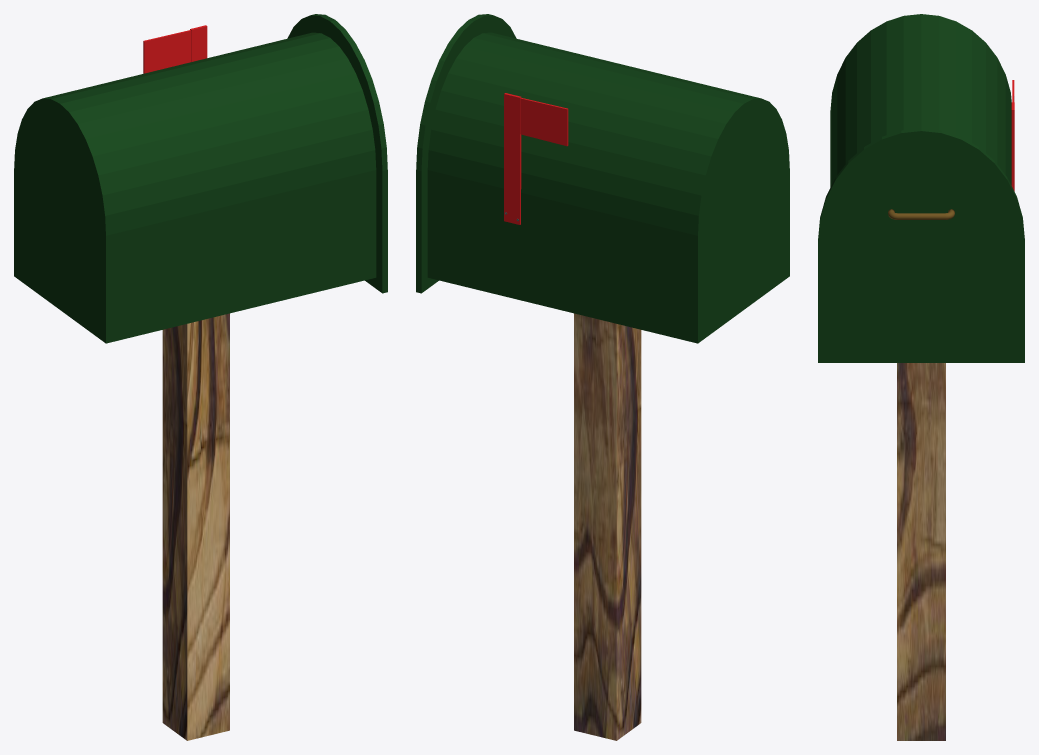
Rendered from letterbox.fbx.
3 views of the same model, side by side, from view 1: azimuth 30°, elevation 25°; view 2: azimuth 150°, elevation 25°; view 3: azimuth 270°, elevation 25° (orthographic).
Parts seen in each view (by area): view 1: Cylinder, Cube, Cylinder.001, Cube.001; view 2: Cylinder, Cube, Cylinder.001, Cube.001; view 3: Cylinder.001, Cylinder, Cube, Cylinder.002, Cube.001.
Boxes of the visible parts, x1=… form: Cylinder: x1=14, y1=32, x2=376, y2=343; Cube: x1=162, y1=313, x2=229, y2=740; Cylinder.001: x1=287, y1=14, x2=387, y2=293; Cube.001: x1=143, y1=25, x2=207, y2=73; Cylinder: x1=427, y1=32, x2=789, y2=343; Cube: x1=574, y1=313, x2=641, y2=740; Cylinder.001: x1=416, y1=14, x2=516, y2=293; Cube.001: x1=504, y1=93, x2=568, y2=224; Cylinder.001: x1=818, y1=128, x2=1024, y2=362; Cylinder: x1=830, y1=14, x2=1011, y2=187; Cube: x1=897, y1=363, x2=945, y2=740; Cylinder.002: x1=888, y1=209, x2=954, y2=219; Cube.001: x1=1011, y1=80, x2=1014, y2=191.
Bounding box in the file's own units: 117 × 260 × 73.17.
Materials: 5 (1 with a texture image).
